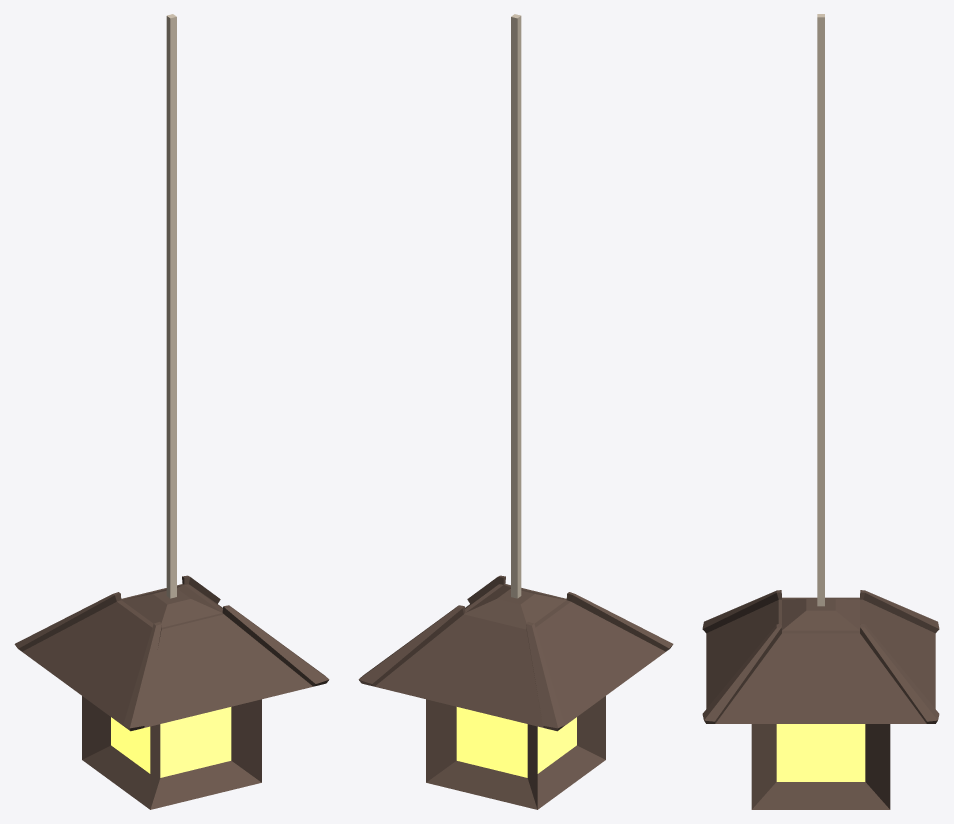
File: lamp.glb
3 views of the same model, side by side, from view 1: azimuth 30°, elevation 25°; view 2: azimuth 150°, elevation 25°; view 3: azimuth 270°, elevation 25° (orthographic).
Visible parts, largest first — view 1: Lamp; view 2: Lamp; view 3: Lamp.
Boxes of the visible parts, x1=… form: Lamp: x1=14, y1=14, x2=329, y2=809; Lamp: x1=358, y1=14, x2=673, y2=809; Lamp: x1=702, y1=14, x2=939, y2=809.
Bounding box in the file's own units: 0.491 × 1.75 × 0.491.
